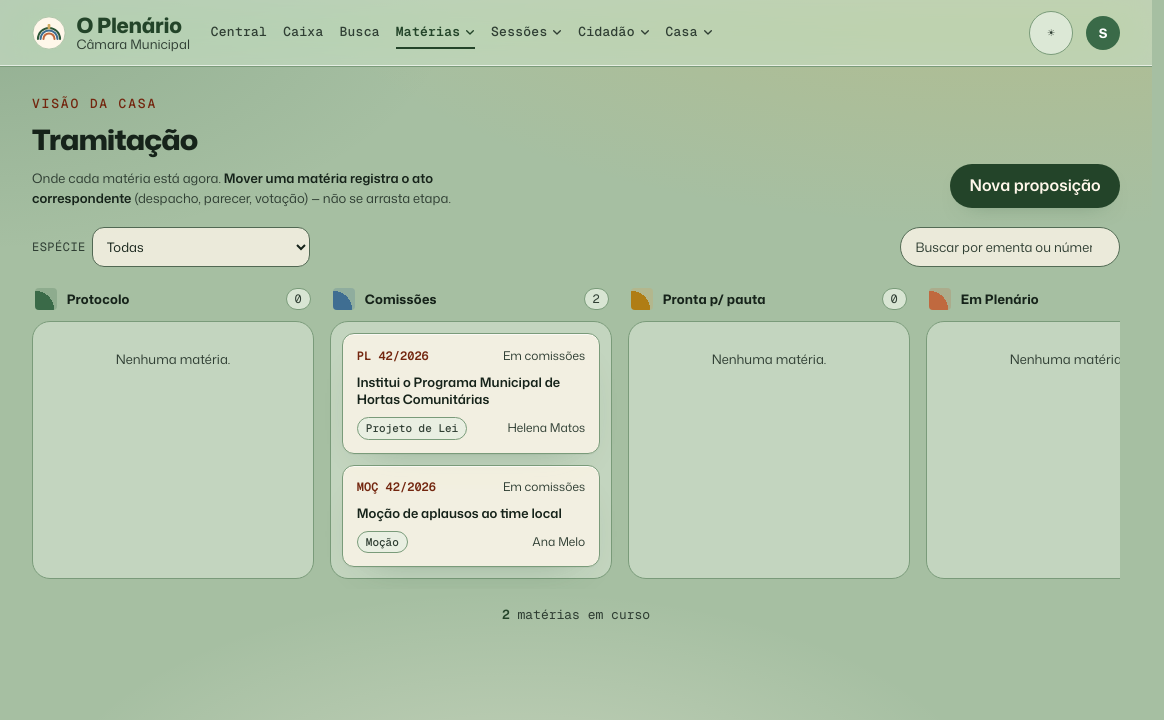
Scenario: PaginaTramitacao › filtro de Espécie mostra só as matérias do tipo selecionado, sem novo round-trip
Expected: the link "Institui o Programa Municipal de Hortas Comunitárias" is shown, [357,373,560,408]
Expected: the link "Moção de aplausos ao time local" is shown, [357,504,562,522]
Select "Moção" in the dropdown labelled "Espécie". click: (201, 247)
box: [92,227,310,267]
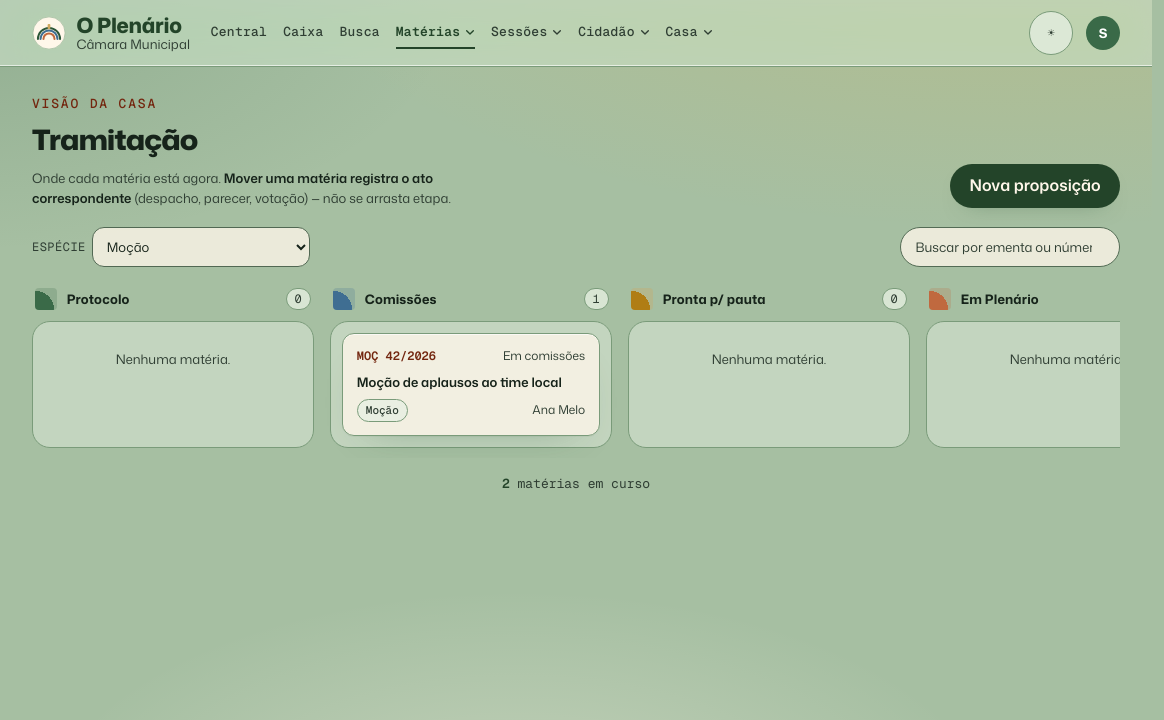
Expected: the link "Moção de aplausos ao time local" is shown, [357,373,562,391]
Result: the link "Institui o Programa Municipal de Hortas Comunitárias" is gone
